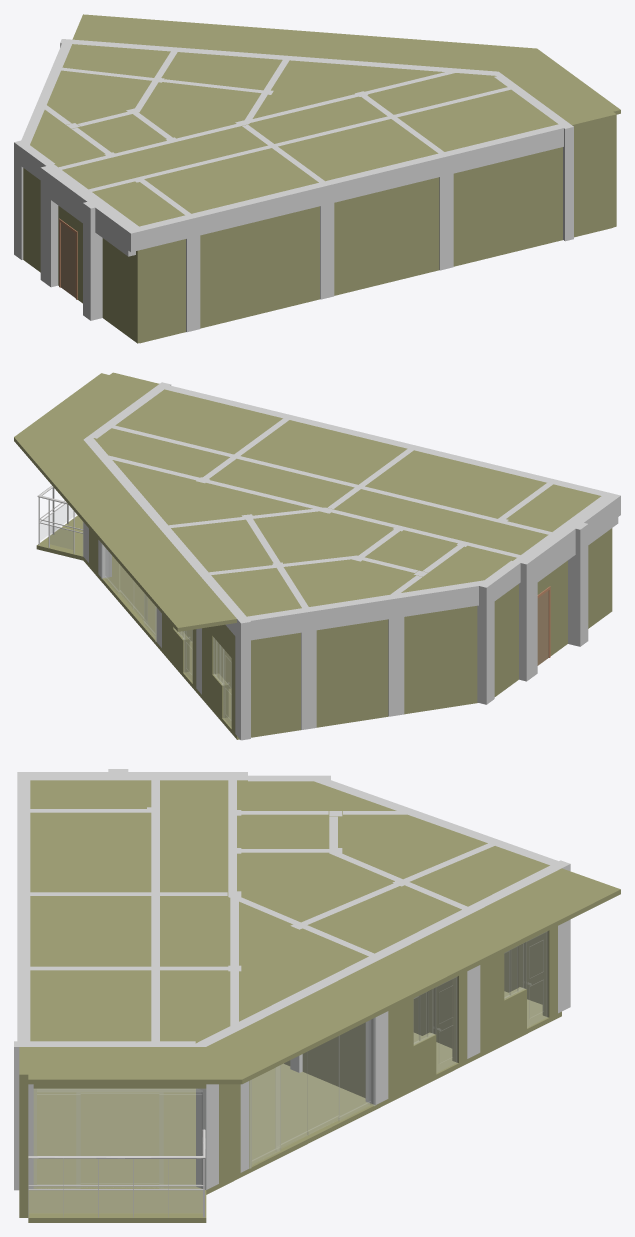
The picture shows the model from 3 angles, top to bottom: view 1: azimuth 30°, elevation 25°; view 2: azimuth 150°, elevation 25°; view 3: azimuth 270°, elevation 25°; orthographic projection. The views are drawn at different scales.
Parts seen in each view (by area): view 1: product-6edbb55a-52a0-4a49-8fac-9ece61594957-body, product-6edbb55a-52a0-4a49-8fac-9ece61584d9c-body, product-6edbb55a-52a0-4a49-8fac-9ece615f76d0-body, product-6edbb55a-52a0-4a49-8fac-9ece61584ce6-body, product-6edbb55a-52a0-4a49-8fac-9ece61591d7c-body, product-6edbb55a-52a0-4a49-8fac-9ece61584f52-body, product-6edbb55a-52a0-4a49-8fac-9ece615f0e51-body, product-6edbb55a-52a0-4a49-8fac-9ece615f0e66-body, product-6edbb55a-52a0-4a49-8fac-9ece61585f17-body, product-6edbb55a-52a0-4a49-8fac-9ece615f0e49-body, product-6edbb55a-52a0-4a49-8fac-9ece615f55a9-body, product-89fb39e2-789d-4ac5-93a1-f93357b4e028-body (+21 smaller); view 2: product-6edbb55a-52a0-4a49-8fac-9ece61594957-body, product-89fb39e2-789d-4ac5-93a1-f93357b4c5e4-body, product-89fb39e2-789d-4ac5-93a1-f93357b3f7fb-body, product-89fb39e2-789d-4ac5-93a1-f93357b3cf03-body, product-6edbb55a-52a0-4a49-8fac-9ece6158c4d2-body, product-6edbb55a-52a0-4a49-8fac-9ece61584793-body, product-6edbb55a-52a0-4a49-8fac-9ece615f55a9-body, product-89fb39e2-789d-4ac5-93a1-f93357b4c73d-body, product-89fb39e2-789d-4ac5-93a1-f93357b4e028-body, product-89fb39e2-789d-4ac5-93a1-f93357b48936-body, product-89fb39e2-789d-4ac5-93a1-f93357b3f4e0-body, product-89fb39e2-789d-4ac5-93a1-f93357b48e3f-body (+24 smaller); view 3: product-6edbb55a-52a0-4a49-8fac-9ece61594957-body, product-6edbb55a-52a0-4a49-8fac-9ece6158c4d2-body, product-6edbb55a-52a0-4a49-8fac-9ece615803be-body, product-6edbb55a-52a0-4a49-8fac-9ece61580354-body, product-6edbb55a-52a0-4a49-8fac-9ece61591d51-body, product-6edbb55a-52a0-4a49-8fac-9ece61584b3f-body, product-6edbb55a-52a0-4a49-8fac-9ece61584793-body, product-6edbb55a-52a0-4a49-8fac-9ece615848f4-body, product-6edbb55a-52a0-4a49-8fac-9ece615815d2-body, product-6edbb55a-52a0-4a49-8fac-9ece6158143c-body, product-6edbb55a-52a0-4a49-8fac-9ece615f2e01-body, product-6edbb55a-52a0-4a49-8fac-9ece615f2e30-body (+24 smaller).
Part boxes in pixels (x1,y1,x2,y2): product-6edbb55a-52a0-4a49-8fac-9ece61594957-body: (30, 14, 620, 226); product-6edbb55a-52a0-4a49-8fac-9ece61584d9c-body: (200, 206, 319, 327); product-6edbb55a-52a0-4a49-8fac-9ece615f76d0-body: (453, 147, 562, 266); product-6edbb55a-52a0-4a49-8fac-9ece61584ce6-body: (334, 177, 439, 295); product-6edbb55a-52a0-4a49-8fac-9ece61591d7c-body: (569, 112, 616, 236); product-6edbb55a-52a0-4a49-8fac-9ece61584f52-body: (134, 239, 185, 343); product-6edbb55a-52a0-4a49-8fac-9ece615f0e51-body: (195, 183, 320, 235); product-6edbb55a-52a0-4a49-8fac-9ece615f0e66-body: (448, 124, 563, 173); product-6edbb55a-52a0-4a49-8fac-9ece61585f17-body: (102, 238, 133, 340); product-6edbb55a-52a0-4a49-8fac-9ece615f0e49-body: (329, 154, 439, 202); product-6edbb55a-52a0-4a49-8fac-9ece615f55a9-body: (83, 198, 108, 320); product-89fb39e2-789d-4ac5-93a1-f93357b4e028-body: (40, 164, 63, 287); product-6edbb55a-52a0-4a49-8fac-9ece61594957-body: (14, 373, 601, 631); product-89fb39e2-789d-4ac5-93a1-f93357b4c5e4-body: (404, 606, 477, 713); product-89fb39e2-789d-4ac5-93a1-f93357b3f7fb-body: (316, 619, 388, 726); product-89fb39e2-789d-4ac5-93a1-f93357b3cf03-body: (251, 632, 300, 736); product-6edbb55a-52a0-4a49-8fac-9ece6158c4d2-body: (36, 515, 477, 739); product-6edbb55a-52a0-4a49-8fac-9ece61584793-body: (202, 624, 235, 733); product-6edbb55a-52a0-4a49-8fac-9ece615f55a9-body: (562, 519, 588, 646); product-89fb39e2-789d-4ac5-93a1-f93357b4c73d-body: (494, 584, 518, 696); product-89fb39e2-789d-4ac5-93a1-f93357b4e028-body: (513, 553, 537, 681); product-89fb39e2-789d-4ac5-93a1-f93357b48936-body: (477, 579, 494, 704); product-89fb39e2-789d-4ac5-93a1-f93357b3f4e0-body: (401, 578, 500, 616); product-89fb39e2-789d-4ac5-93a1-f93357b48e3f-body: (385, 593, 404, 716); product-6edbb55a-52a0-4a49-8fac-9ece61594957-body: (28, 780, 620, 1084); product-6edbb55a-52a0-4a49-8fac-9ece6158c4d2-body: (28, 991, 561, 1222); product-6edbb55a-52a0-4a49-8fac-9ece615803be-body: (33, 1088, 205, 1190); product-6edbb55a-52a0-4a49-8fac-9ece61580354-body: (249, 1017, 375, 1168); product-6edbb55a-52a0-4a49-8fac-9ece61591d51-body: (28, 1129, 205, 1217); product-6edbb55a-52a0-4a49-8fac-9ece61584b3f-body: (388, 971, 467, 1098); product-6edbb55a-52a0-4a49-8fac-9ece61584793-body: (480, 926, 557, 1052); product-6edbb55a-52a0-4a49-8fac-9ece615848f4-body: (302, 1022, 365, 1098); product-6edbb55a-52a0-4a49-8fac-9ece615815d2-body: (413, 976, 457, 1072); product-6edbb55a-52a0-4a49-8fac-9ece6158143c-body: (504, 931, 548, 1027); product-6edbb55a-52a0-4a49-8fac-9ece615f2e01-body: (196, 1037, 218, 1189); product-6edbb55a-52a0-4a49-8fac-9ece615f2e30-body: (365, 952, 388, 1104).
Size of the model in its own units: 16.73 by 3.72 by 13.82.
